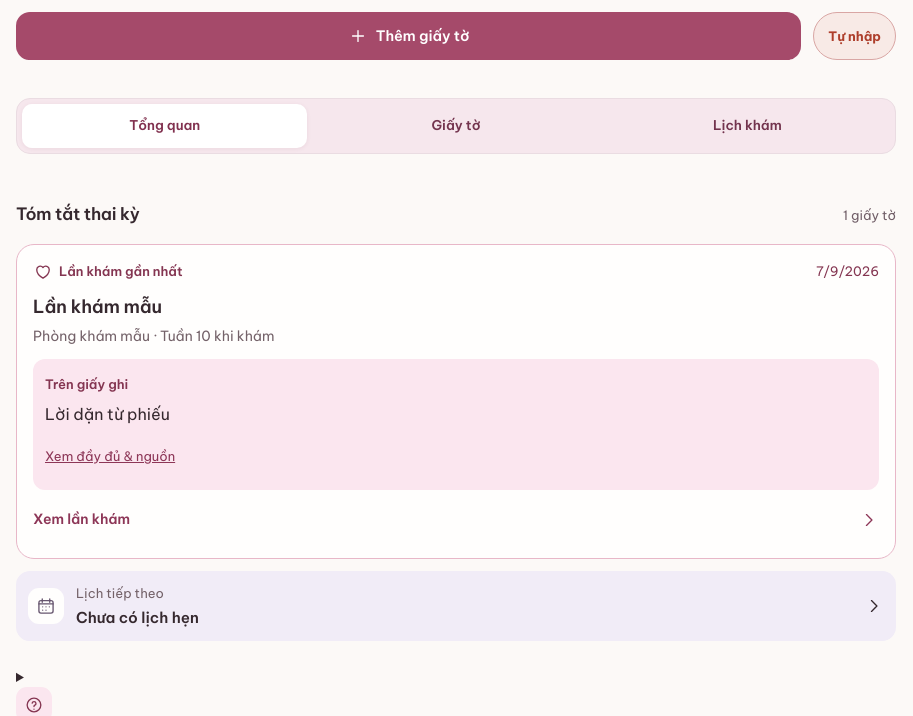
Test: opens the saved library without opening upload, preserves the sources and makes intake explicit
Check: the text "Lời dặn từ phiếu" is shown, box [45,404,170,424]
What coordinates should you click on to do the following:
click the link "Giấy tờ"
I would click on:
 (456, 125)
Its box is [432,117,480,134].
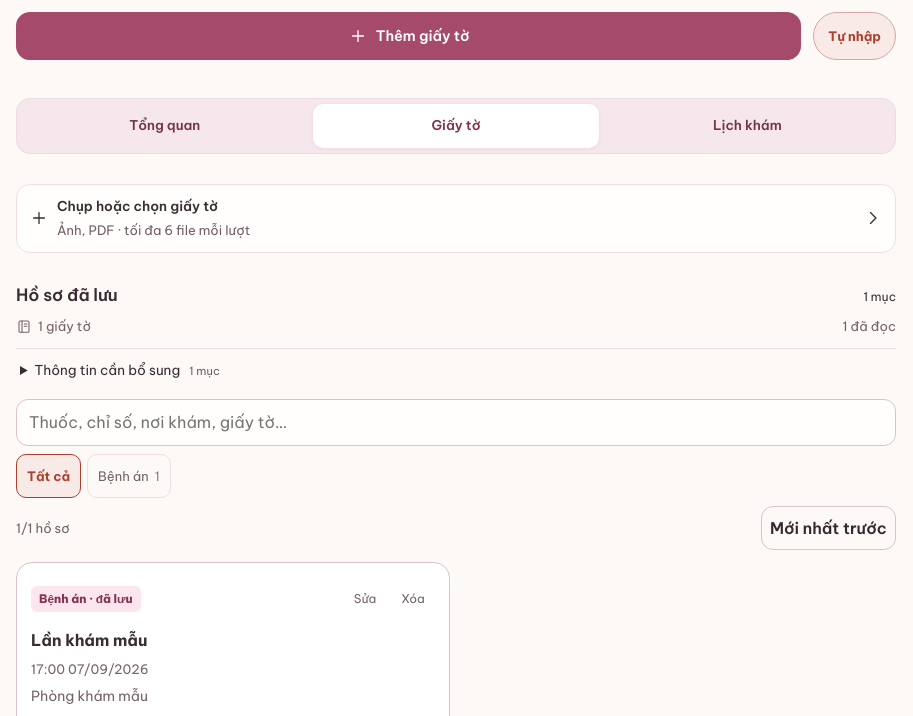
Check: the search field named "Tìm hồ sơ" is shown, box [16,399,896,446]
What coordinates should you click on to do the following:
click the link "Thêm giấy tờ"
I would click on:
 (409, 36)
Its box is [16,12,801,60].
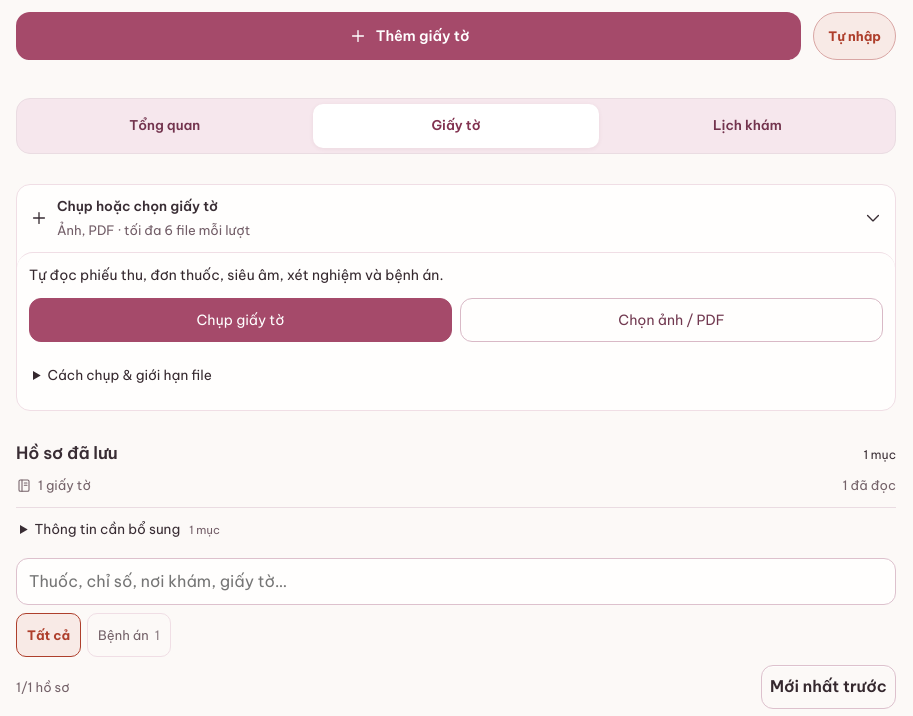
Check: the button "Chụp giấy tờ" is shown, box [29,298,452,342]
